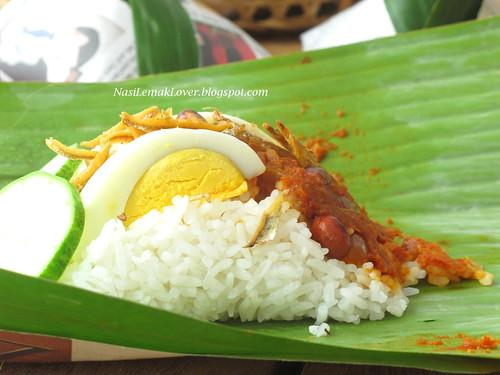Anchovies: (46, 106, 319, 203)
Boiled-Egg: (85, 130, 266, 248)
Cucumber: (0, 155, 85, 282)
Peanuts: (310, 216, 374, 268)
Rice: (69, 187, 417, 324)
Sambal: (299, 167, 486, 288)
